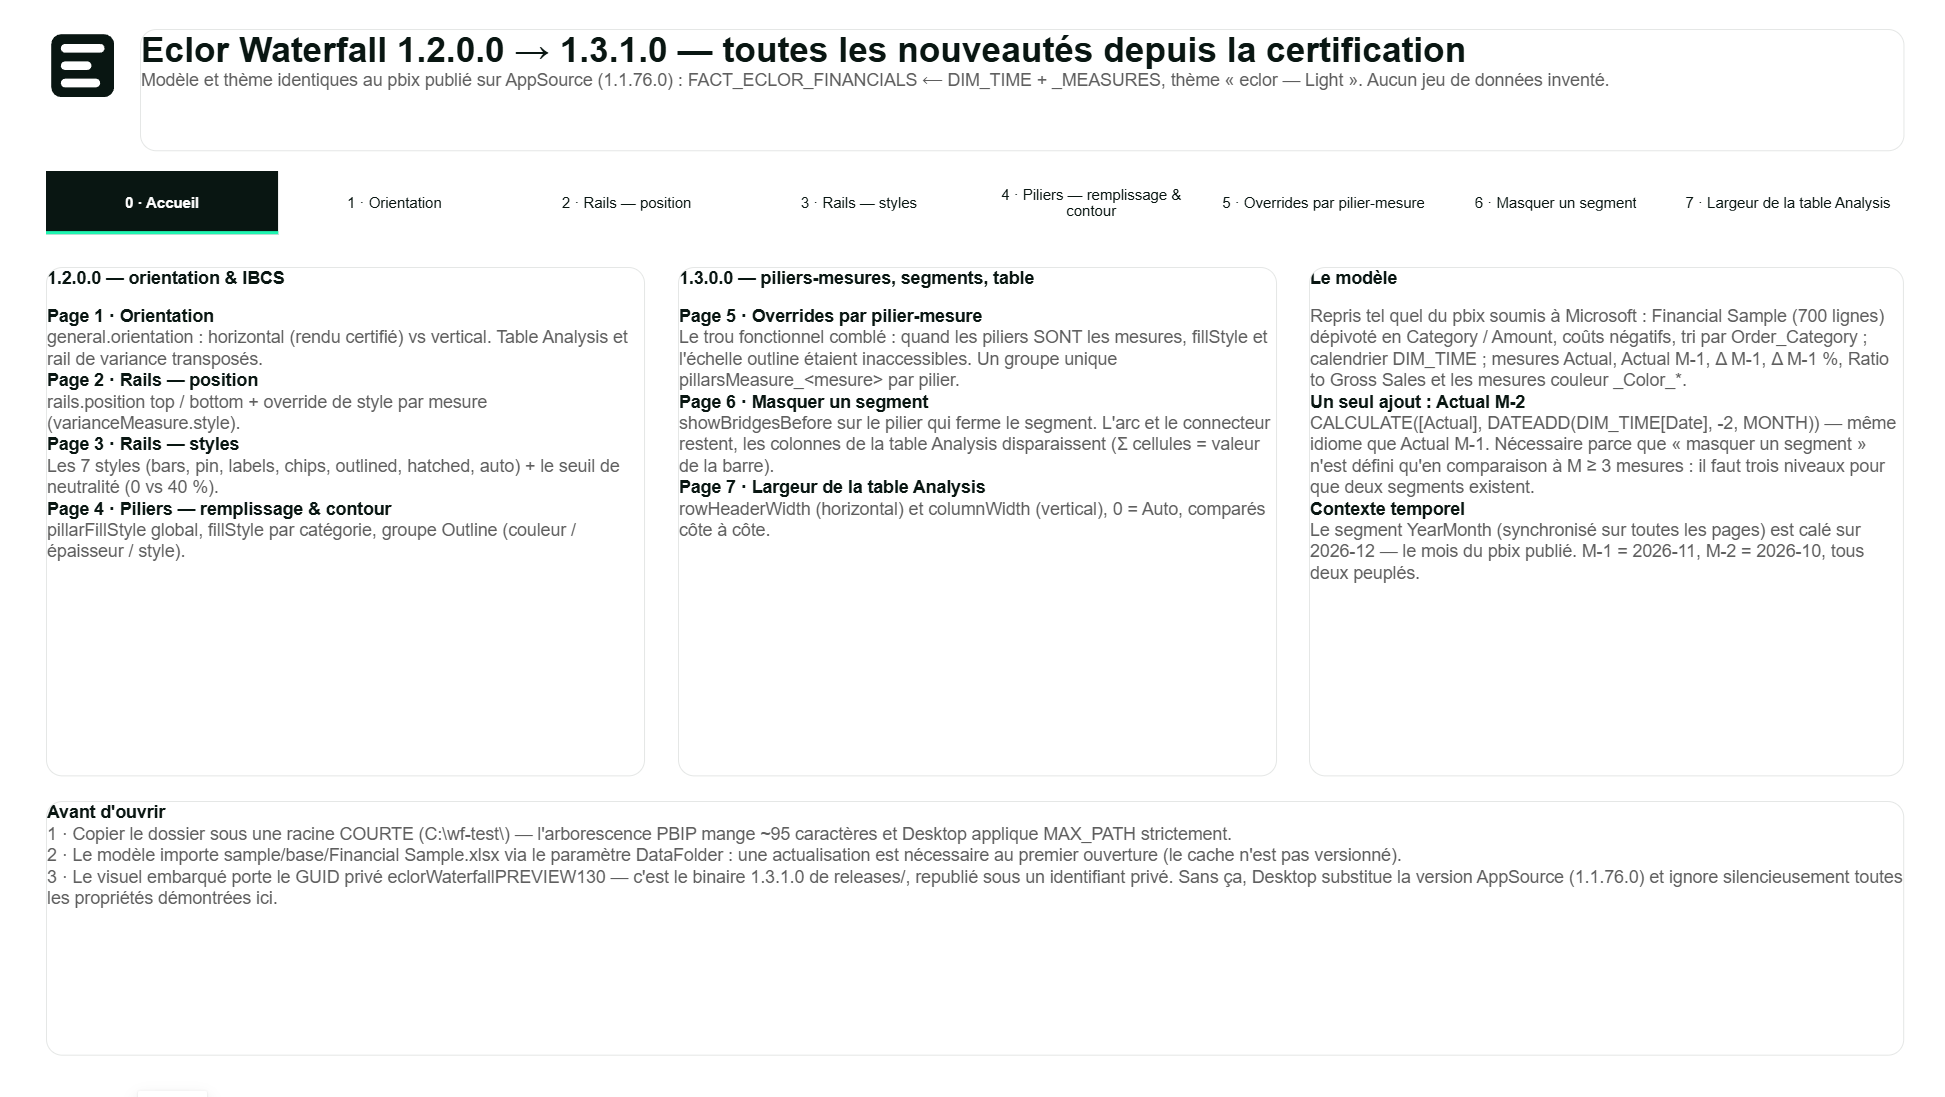

This screenshot's page, from the dashboard's own definition file:
{"tool":"powerbi","page":{"name":"Getting started","canvas":[1920,1080],"ordinal":0},"visuals":[{"type":"shape","box":[35,35,1850,105],"z":0},{"type":"textbox","box":[35,175,907.5,417.5],"z":100},{"type":"textbox","box":[977.5,175,907.5,417.5],"z":100},{"type":"textbox","box":[35,627.5,907.5,417.5],"z":100},{"type":"textbox","box":[977.5,627.5,907.5,417.5],"z":100},{"type":"pageNavigator","box":[334.4,57,1249.6,62.8],"z":200},{"type":"image","box":[69.7,51,69,69],"z":400}]}

Visuals, with their boxes in screenshot pixels (x1, y1, x2, y2), scaled from the page's 1920x1080 canvas onto the 1945x1097 screenshot:
shape: <region>35, 36, 1910, 142</region>
textbox: <region>35, 178, 955, 602</region>
textbox: <region>990, 178, 1910, 602</region>
textbox: <region>35, 637, 955, 1061</region>
textbox: <region>990, 637, 1910, 1061</region>
pageNavigator: <region>339, 58, 1605, 122</region>
image: <region>71, 52, 141, 122</region>
